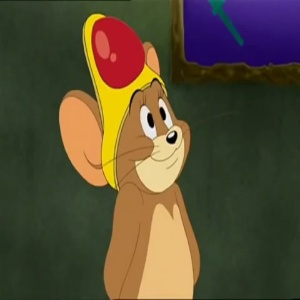Jerry: (62, 16, 198, 193)
